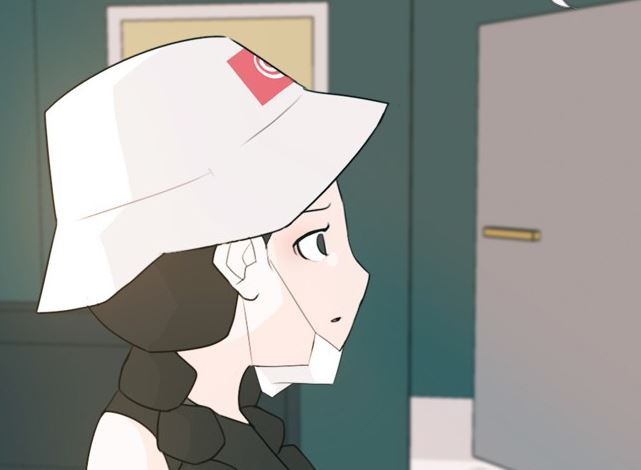hat: (34, 30, 401, 238)
